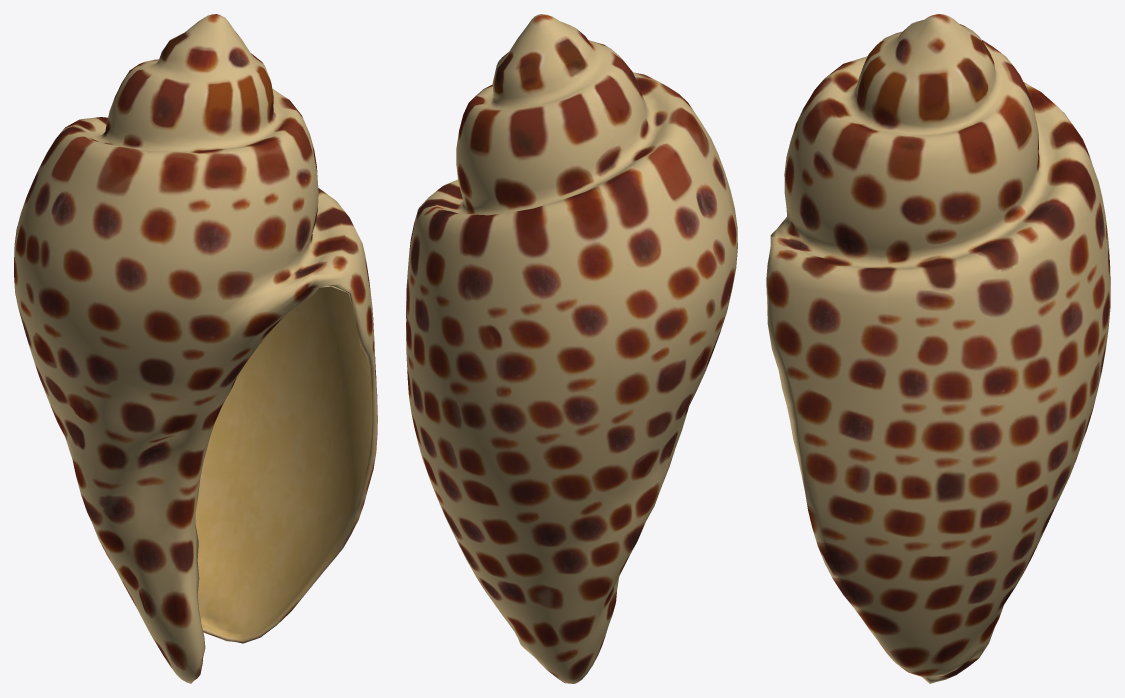
The model's file is junonia-shell.glb.
3 views of the same model, side by side, from view 1: azimuth 30°, elevation 25°; view 2: azimuth 150°, elevation 25°; view 3: azimuth 270°, elevation 25° (orthographic). The views are drawn at different scales.
Visible parts, largest first — view 1: OBJ_JunoniaShell; view 2: OBJ_JunoniaShell; view 3: OBJ_JunoniaShell.
Part boxes in pixels (x1,y1,x2,y2): OBJ_JunoniaShell: (14,14,377,683); OBJ_JunoniaShell: (406,14,737,683); OBJ_JunoniaShell: (766,14,1110,683).
Bounding box in the file's own units: 0.0489 × 0.1026 × 0.0469.
1 material, 1 textured.
